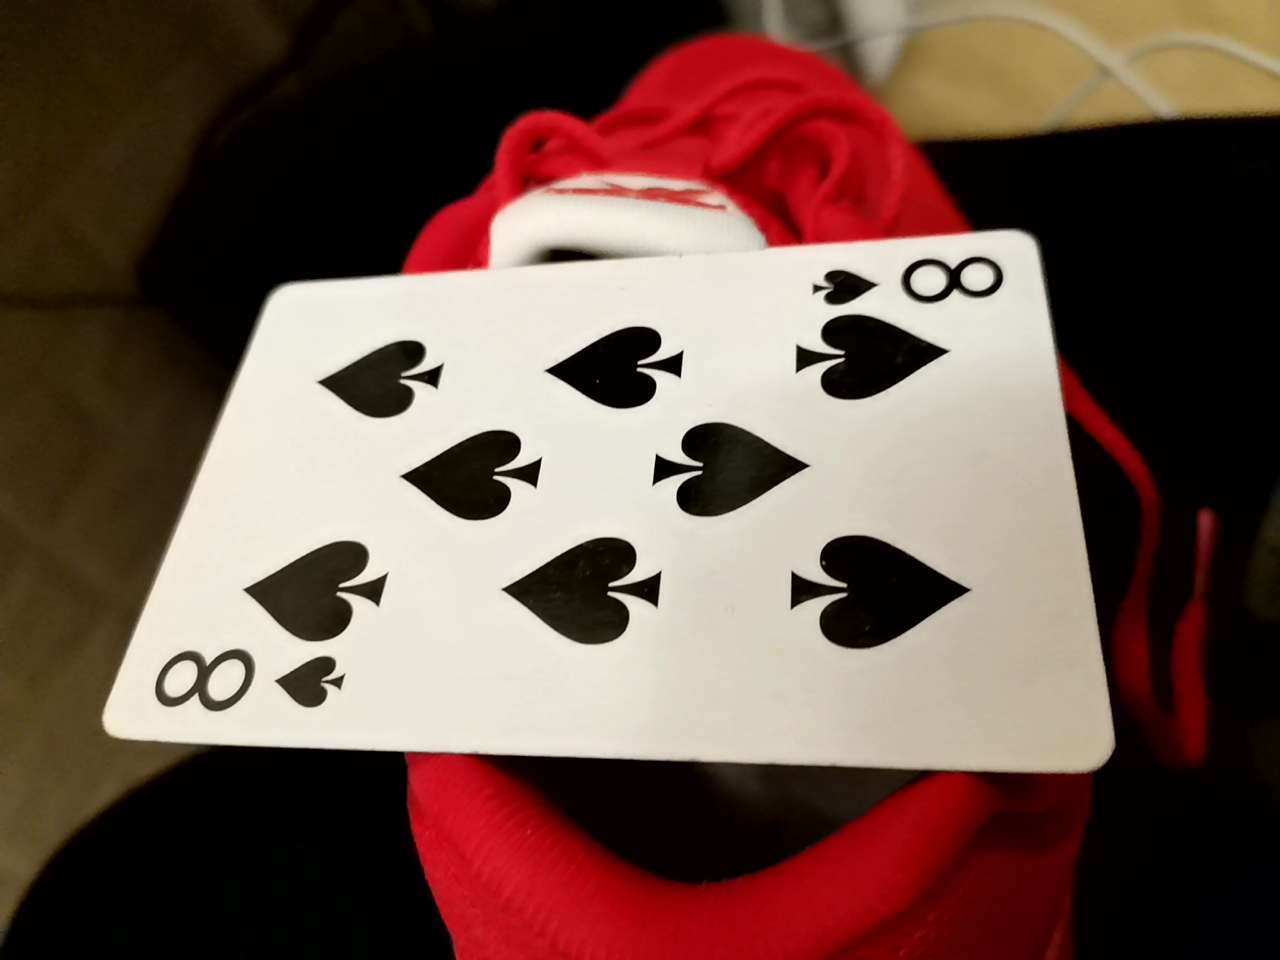ht 8: (65, 243, 1104, 761)
